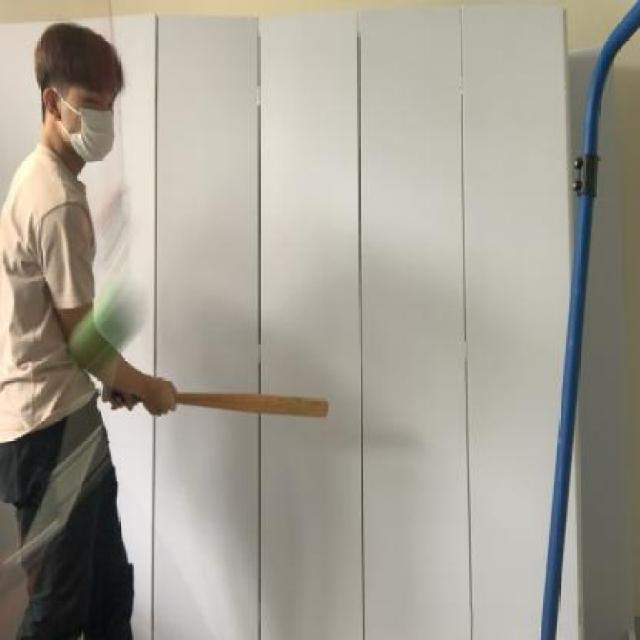baseball: (55, 277, 153, 369)
